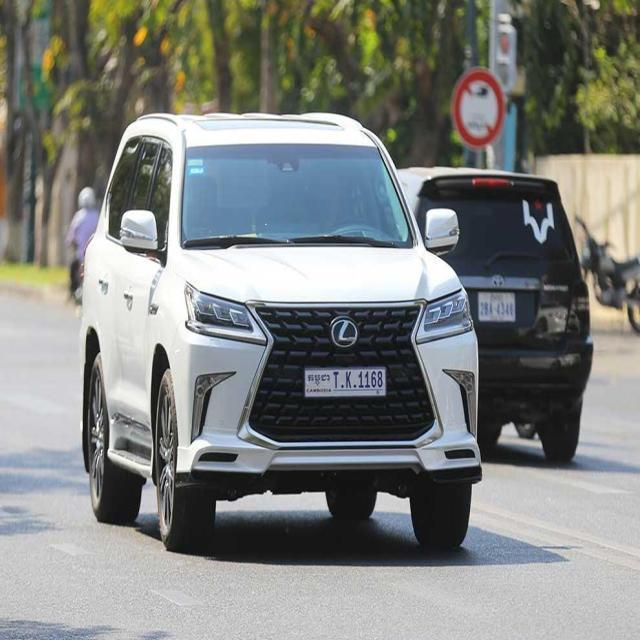Cambodia: (308, 372, 331, 386)
Phnom_Penh: (490, 294, 503, 302)
